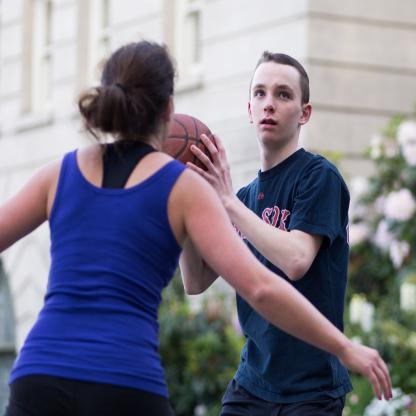Ball: (163, 113, 216, 171)
